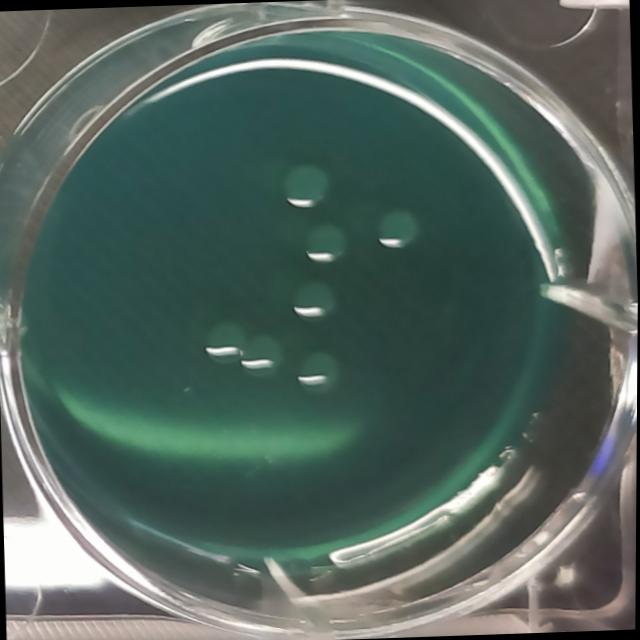vibrio: (273, 157, 336, 213), (292, 348, 351, 401), (288, 275, 344, 329), (373, 200, 428, 252), (198, 316, 250, 367), (302, 218, 353, 266), (239, 332, 285, 379)
